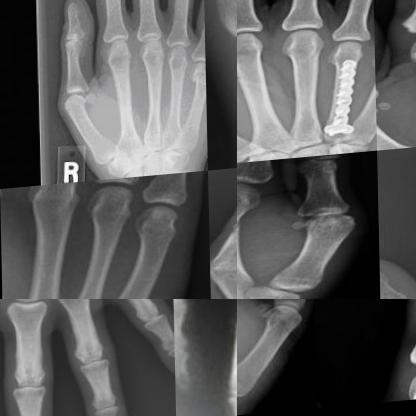fracture: (315, 59, 373, 143), (237, 209, 259, 273), (187, 65, 205, 99)
